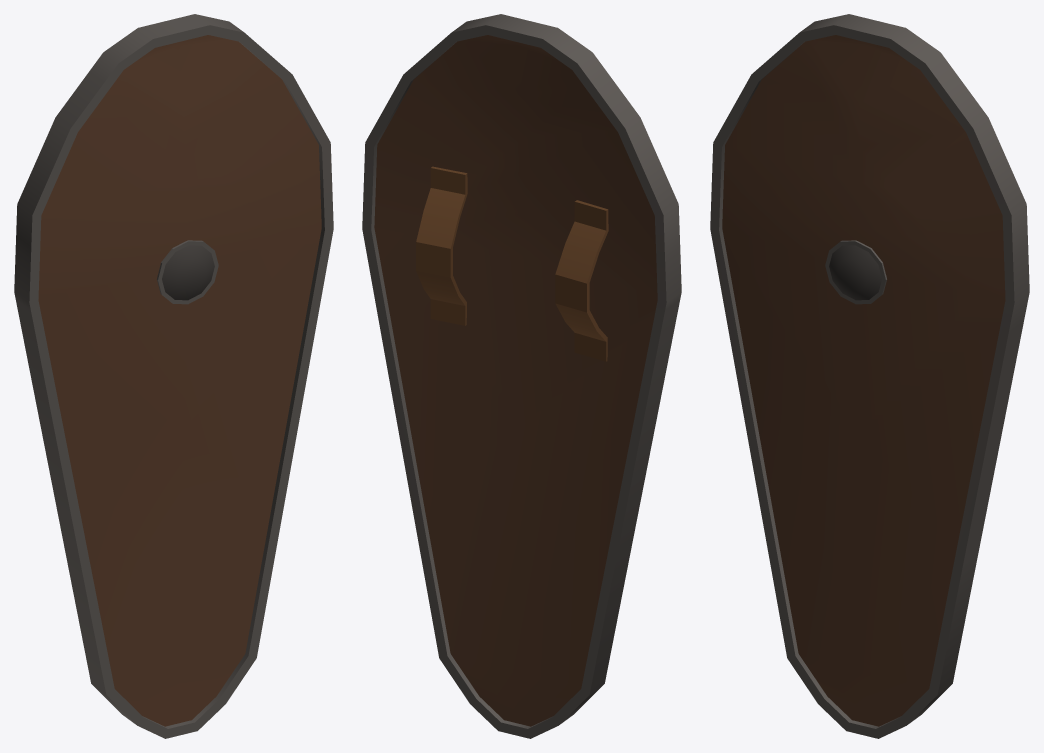
File: Kite Shield_Brown.glb
3 views of the same model, side by side, from view 1: azimuth 30°, elevation 25°; view 2: azimuth 150°, elevation 25°; view 3: azimuth 330°, elevation 25° (orthographic).
Parts seen in each view (by area): view 1: Kite Shield_Brown; view 2: Kite Shield_Brown; view 3: Kite Shield_Brown.
Boxes of the visible parts, x1,y1,x2,y2 form: Kite Shield_Brown: (14,14,333,738); Kite Shield_Brown: (362,14,681,738); Kite Shield_Brown: (710,14,1029,738).
Size of the model in its own units: 0.4323 by 0.9542 by 0.094.
Materials: 1 (1 with a texture image).
